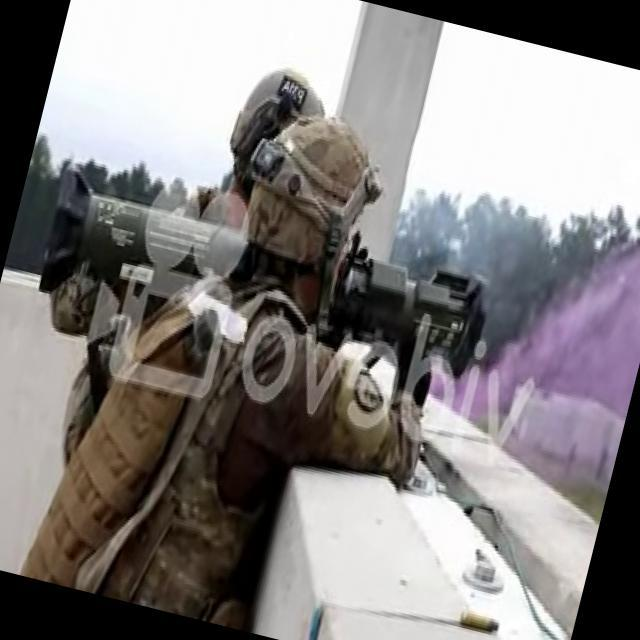rocket: (291, 226, 498, 396)
